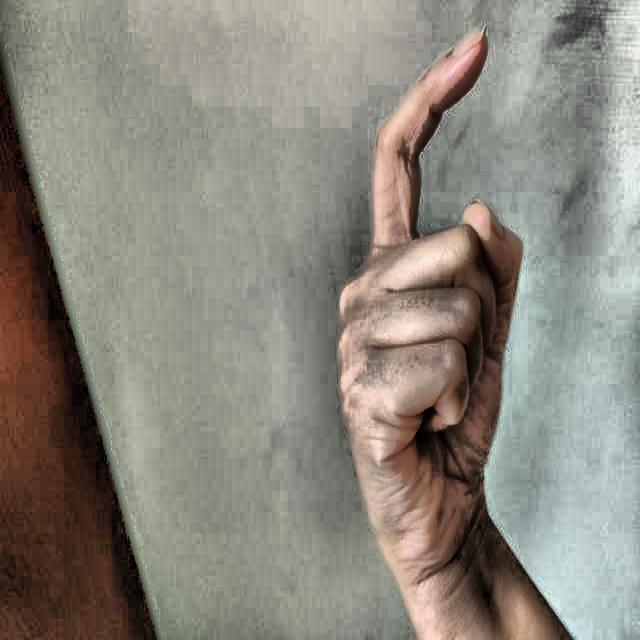E: (324, 21, 527, 564)
